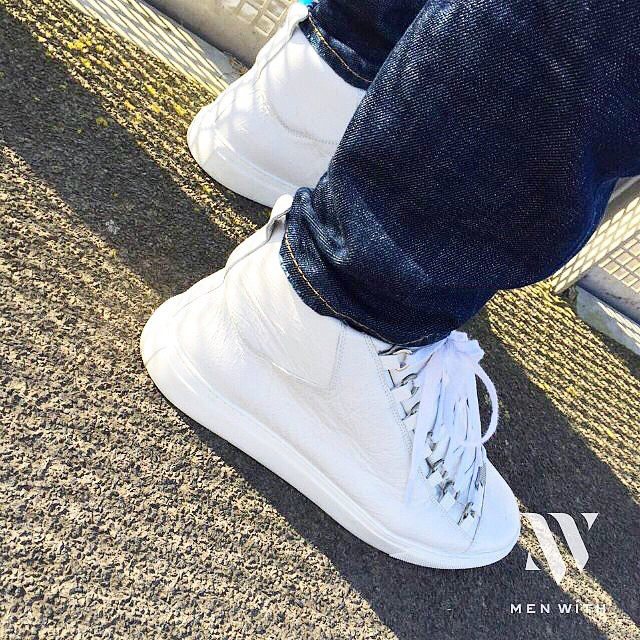sneaker: (114, 160, 553, 600), (165, 1, 371, 212)
